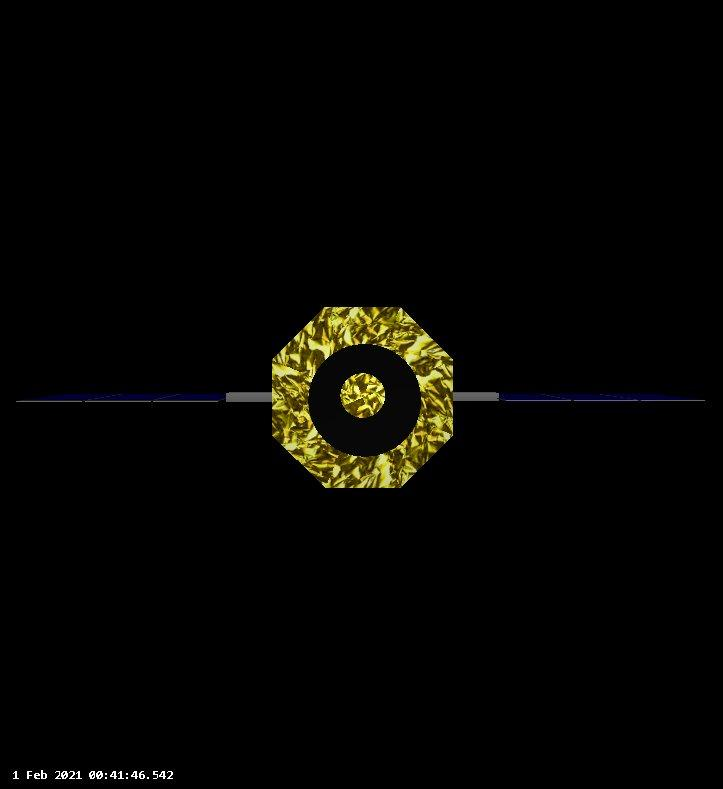body: (268, 303, 457, 493)
solar: (453, 387, 706, 406), (11, 390, 272, 407)
thruster: (305, 342, 422, 456)
